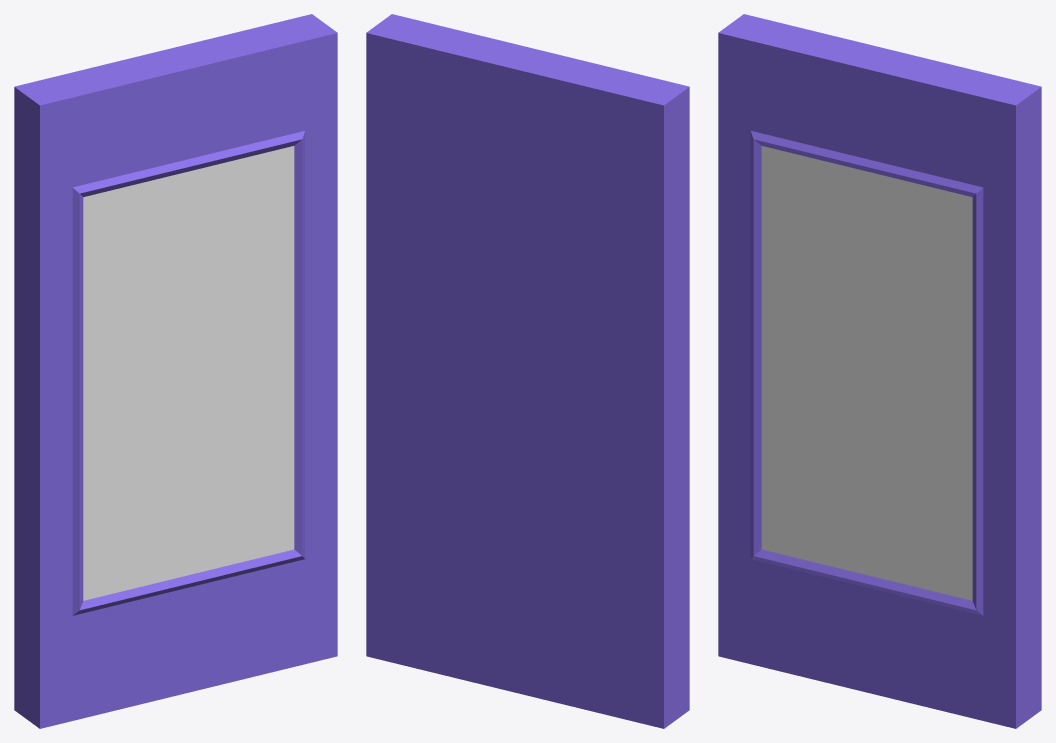
File: PurpleGalleryInfo.glb
The picture shows the model from 3 angles, left to right: view 1: azimuth 30°, elevation 25°; view 2: azimuth 150°, elevation 25°; view 3: azimuth 330°, elevation 25°; orthographic projection.
Visible parts, largest first — view 1: galleryInfo_Purple; view 2: galleryInfo_Purple; view 3: galleryInfo_Purple.
Part boxes in pixels (x1,y1,x2,y2): galleryInfo_Purple: [14, 14, 337, 728]; galleryInfo_Purple: [366, 14, 689, 728]; galleryInfo_Purple: [718, 14, 1041, 728].
Size of what is drawn, in the model's own units: 2 by 4 by 0.3245.
1 material, 1 textured.
